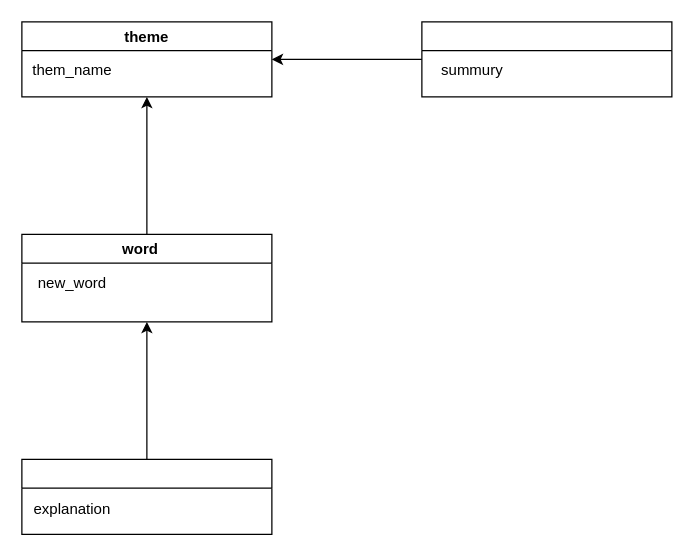
This 694x556 diagram has some shape labels left out. The shapes that lost their labels are listed below. From the top down, each one's box as (x1, y1, x2, y2) in pixels, then its label:
(421, 21, 672, 97): output
(21, 458, 272, 534): description
